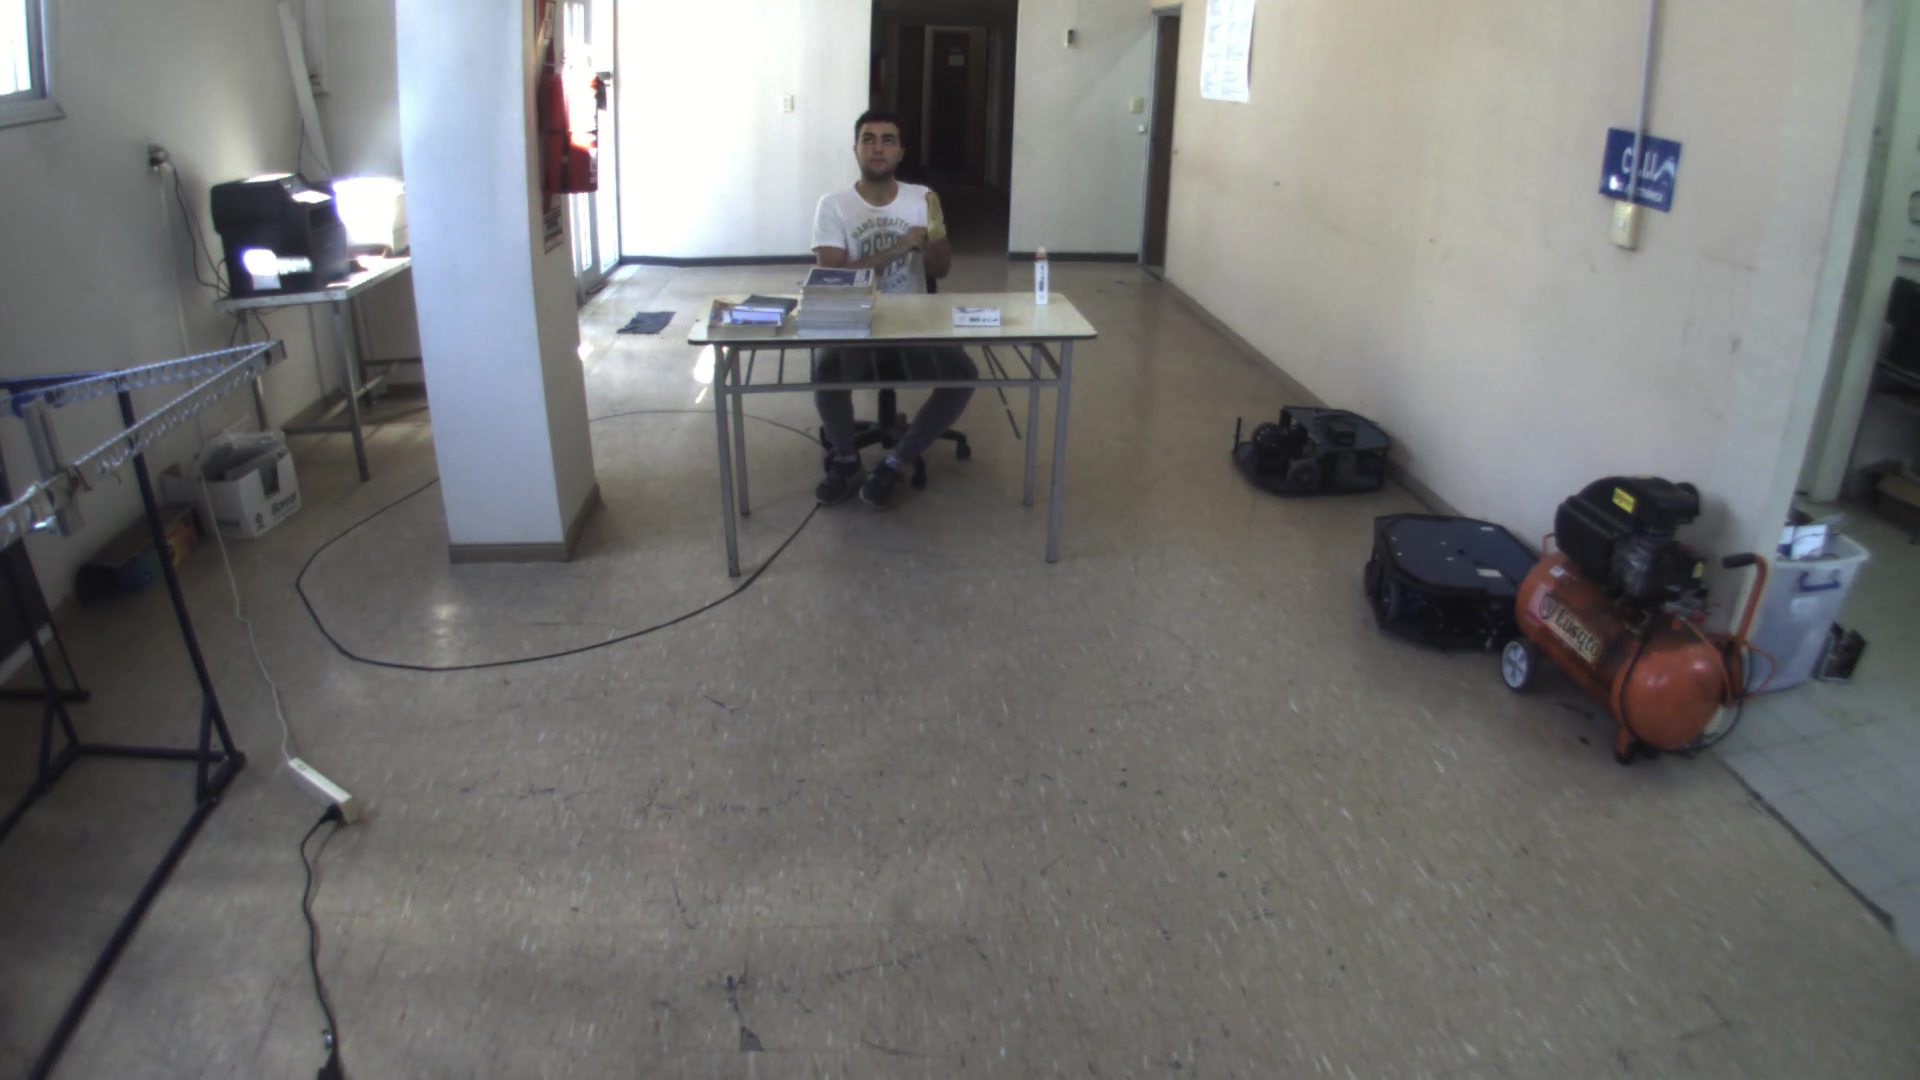hand: (922, 185, 948, 243), (891, 220, 930, 253)
